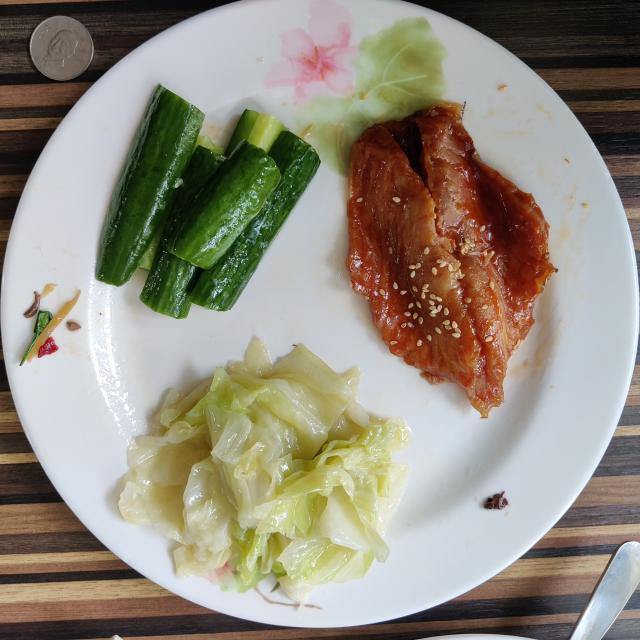Kabayaki sea bream fillet: (348, 104, 554, 416)
cabbage: (119, 340, 411, 602)
coin: (30, 16, 94, 80)
cucumber: (95, 85, 320, 319)
